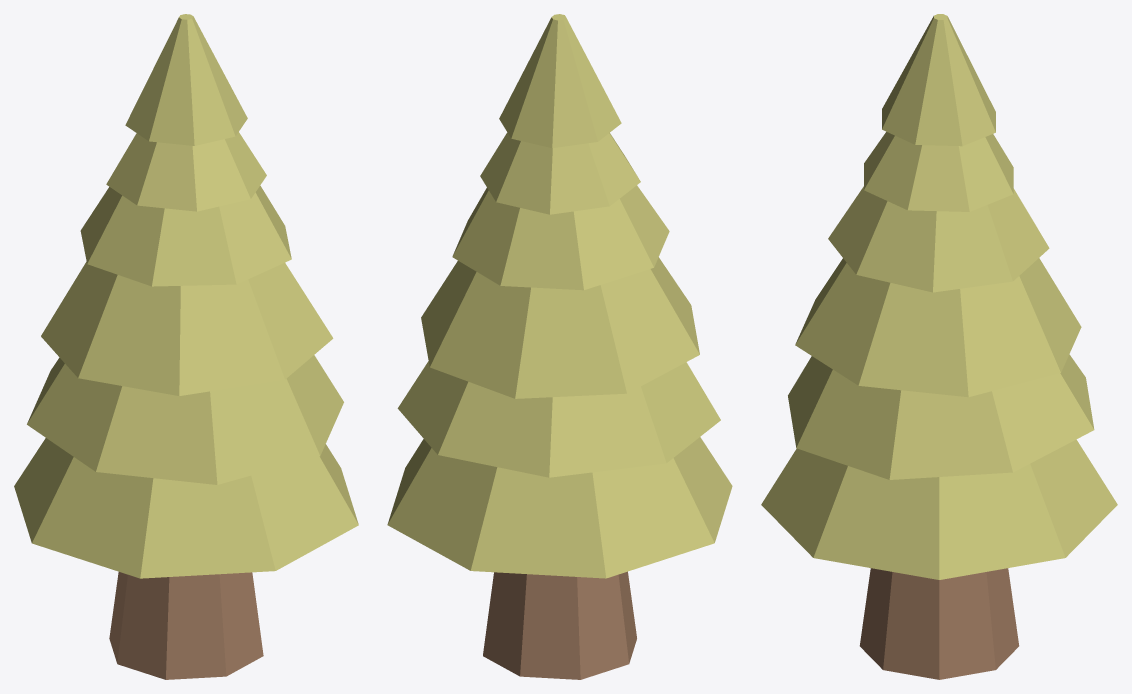
Rendered from tree2.fbx.
3 views of the same model, side by side, from view 1: azimuth 30°, elevation 25°; view 2: azimuth 150°, elevation 25°; view 3: azimuth 270°, elevation 25° (orthographic).
Parts seen in each view (by area): view 1: Cylinder; view 2: Cylinder; view 3: Cylinder.
Part boxes in pixels (box(x1,y1,x2,y2)): Cylinder: box(14, 14, 358, 679); Cylinder: box(387, 14, 732, 679); Cylinder: box(761, 14, 1117, 679).
Size of the model in its own units: 95.7 by 186 by 95.7.
